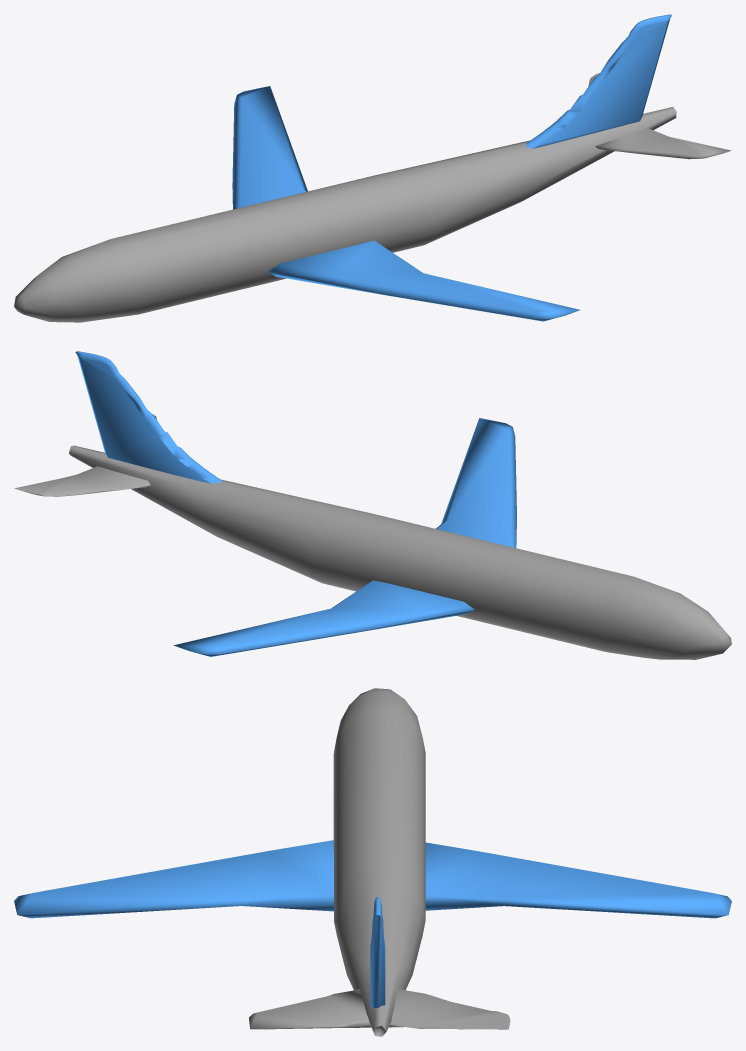
File: default_compass_shape.dae
3 views of the same model, one above another, from view 1: azimuth 30°, elevation 25°; view 2: azimuth 150°, elevation 25°; view 3: azimuth 270°, elevation 25° (orthographic). The views are drawn at different scales.
Visible parts, largest first — view 1: Body, LWing, Tail, RWing, LTail; view 2: Body, RWing, Tail, LWing, RTail; view 3: Body, LWing, RWing, RTail, LTail, Tail.
Part boxes in pixels (x1,y1,x2,y2): Body: (14, 107, 676, 322); LWing: (268, 240, 579, 321); Tail: (526, 14, 671, 148); RWing: (232, 86, 307, 209); LTail: (595, 128, 731, 159); Body: (69, 445, 731, 659); RWing: (173, 580, 474, 656); Tail: (75, 351, 223, 483); LWing: (436, 418, 516, 547); RTail: (14, 466, 150, 496); Body: (333, 688, 425, 1036); LWing: (14, 840, 333, 918); RWing: (425, 842, 731, 918); RTail: (388, 989, 510, 1029); LTail: (249, 989, 370, 1029); Tail: (370, 897, 385, 1008).
Size of the model in its own units: 67.46 by 54.92 by 16.25.
